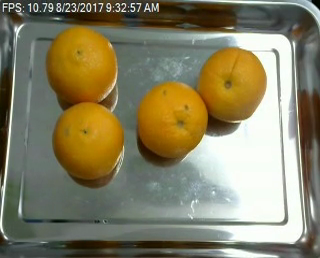Orange: (45, 25, 118, 104), (53, 102, 125, 180), (197, 45, 267, 122), (137, 81, 206, 157)
